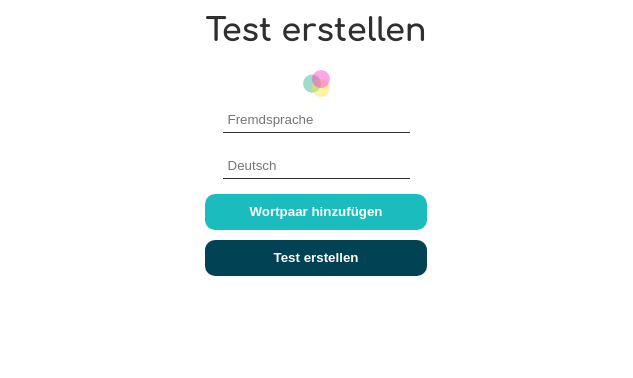
Test: TestCreator › Adds wordpairs to the test preview
In the field named "foreign": point(317, 120) [223, 107, 410, 133], type "the candle"
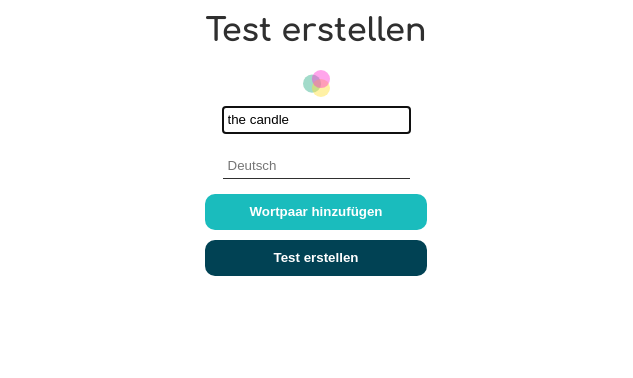
In the field named "native": point(317, 166) [223, 153, 410, 179], type "die Kerze"
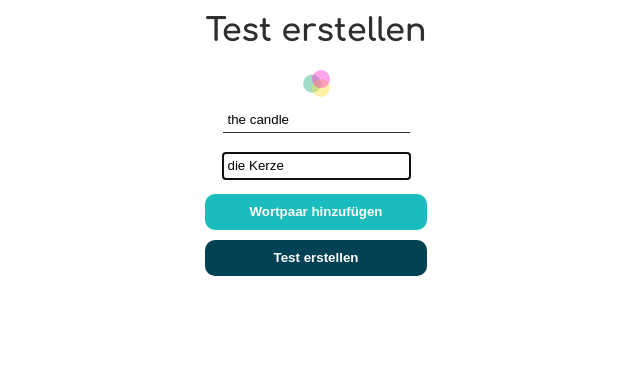
Click the button "Wortpaar hinzufügen": point(316, 212) [205, 194, 426, 230]
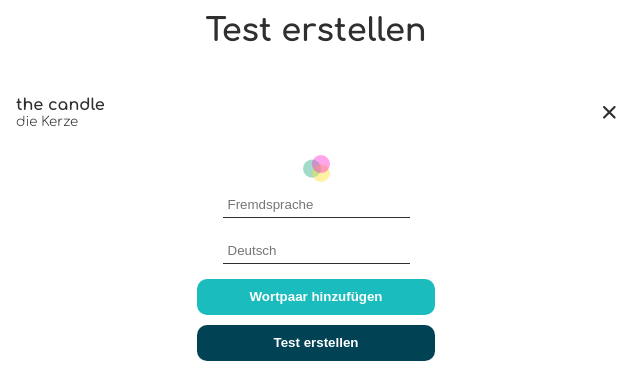
Check: the text "the candle" is shown, box [16, 96, 105, 114]
Check: the text "die Kerze" is shown, box [16, 114, 78, 129]
